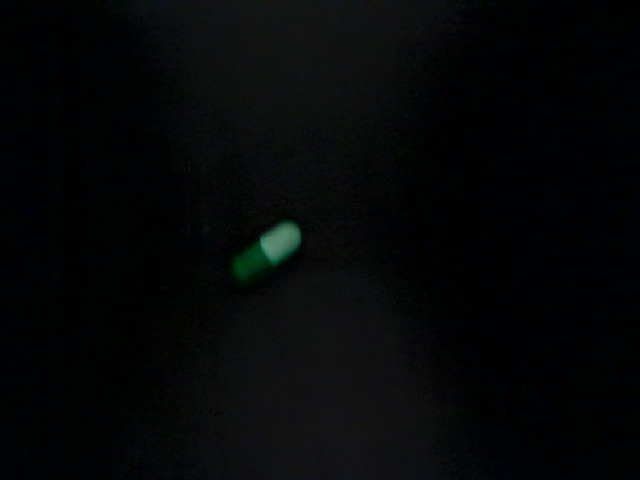YHLJ: (150, 381, 442, 474)
